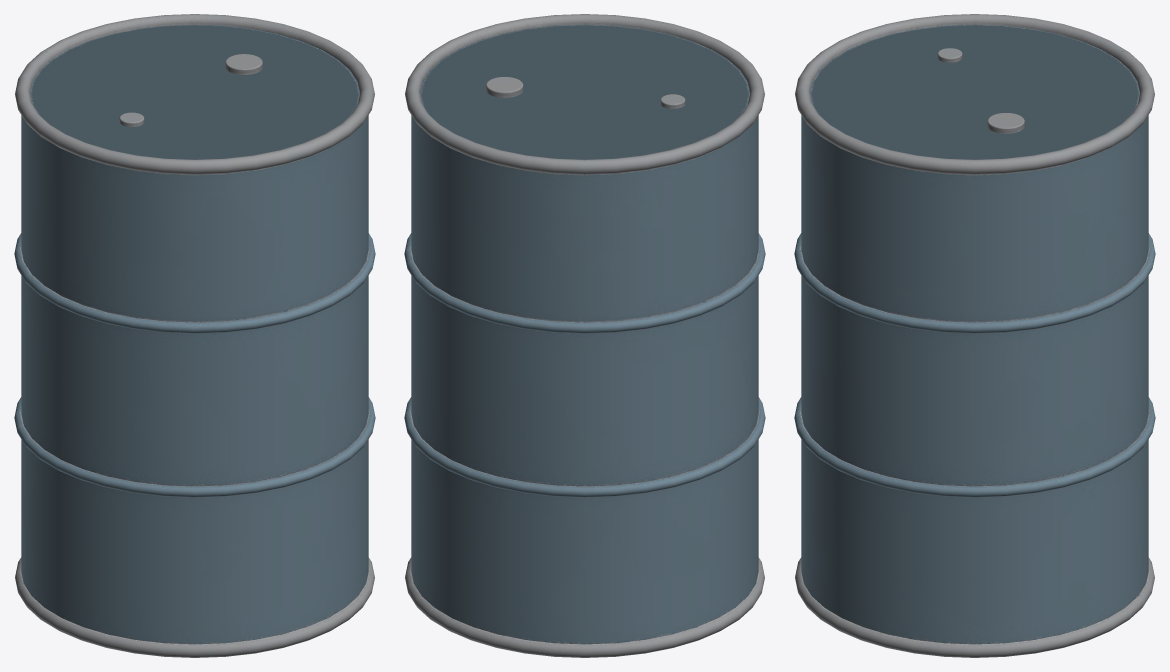
Rendered from barrel.fbx.
3 views of the same model, side by side, from view 1: azimuth 30°, elevation 25°; view 2: azimuth 150°, elevation 25°; view 3: azimuth 270°, elevation 25° (orthographic).
Parts seen in each view (by area): view 1: barrel; view 2: barrel; view 3: barrel.
Boxes of the visible parts, x1,y1,x2,y2 form: barrel: (14,14,375,657); barrel: (404,14,765,657); barrel: (794,14,1155,657).
Bounding box in the file's own units: 0.58 × 0.8796 × 0.58.
